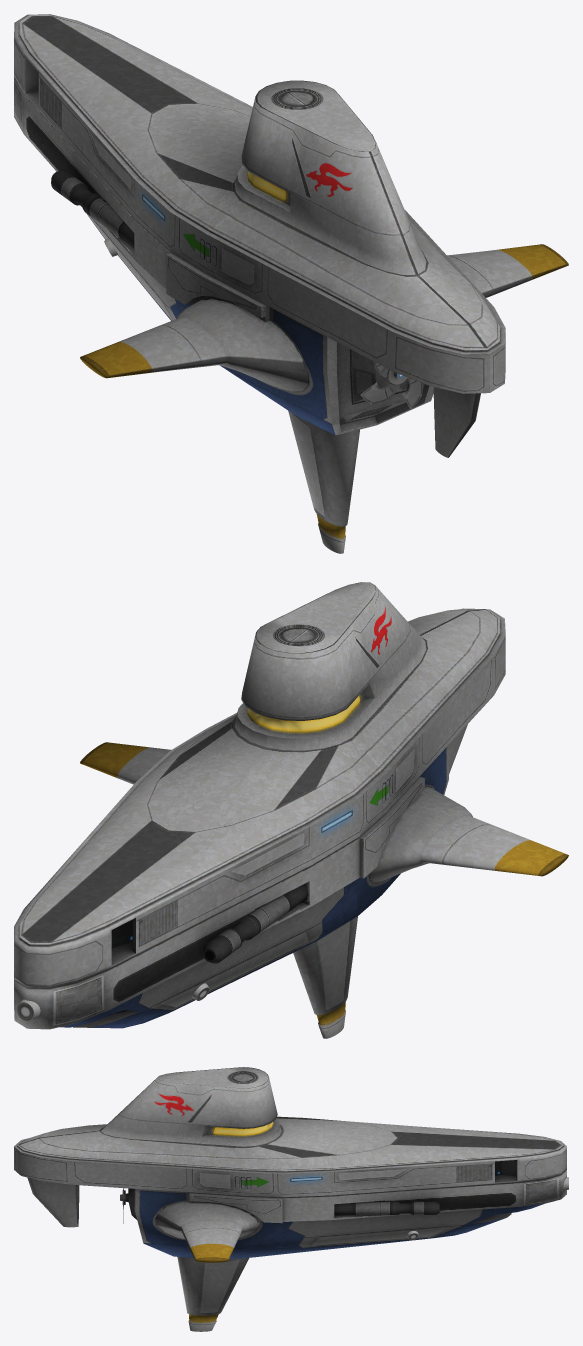
File: bluemarine.glb
The picture shows the model from 3 angles, top to bottom: view 1: azimuth 30°, elevation 25°; view 2: azimuth 150°, elevation 25°; view 3: azimuth 270°, elevation 25°; orthographic projection. The views are drawn at different scales.
Parts seen in each view (by area): view 1: detail_0, propeller; view 2: detail_0; view 3: detail_0.
Boxes of the visible parts, left/top/right/bottom form: detail_0: left=14, top=14, right=568, bottom=553; propeller: left=360, top=361, right=423, bottom=409; detail_0: left=14, top=582, right=568, bottom=1038; detail_0: left=14, top=1067, right=568, bottom=1331.
Bounding box in the file's own units: 30.38 × 26.56 × 52.93.
1 material, 1 textured.
